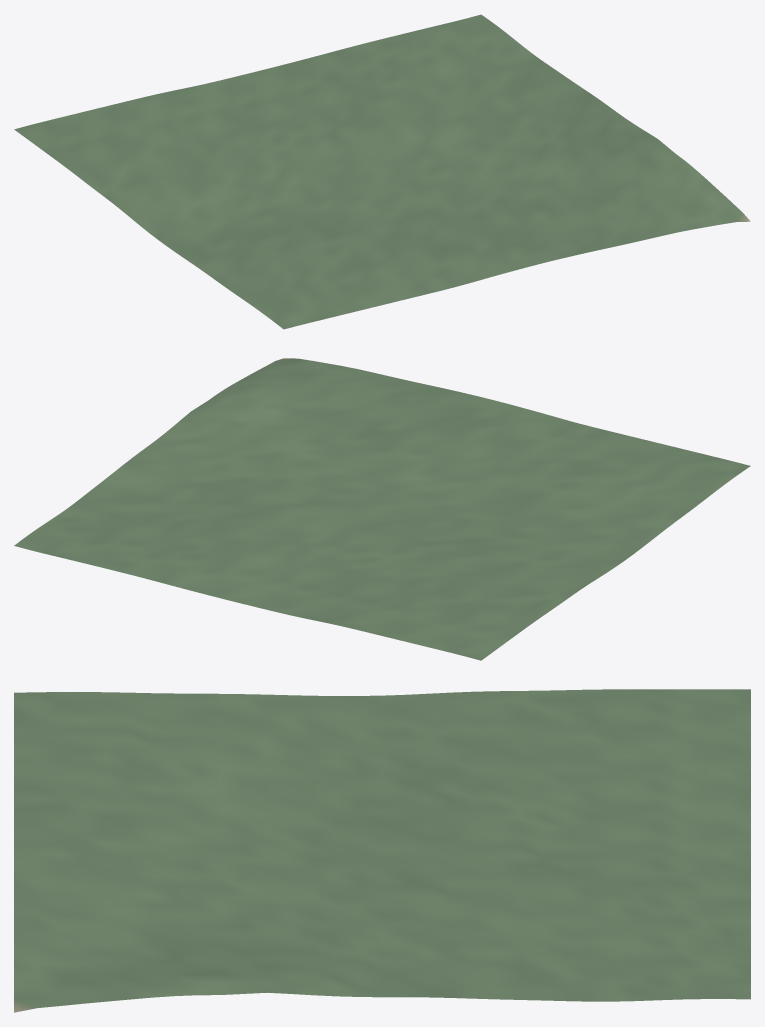
The picture shows the model from 3 angles, top to bottom: view 1: azimuth 30°, elevation 25°; view 2: azimuth 150°, elevation 25°; view 3: azimuth 270°, elevation 25°; orthographic projection. The views are drawn at different scales.
Visible parts, largest first — view 1: Terrain-col; view 2: Terrain-col; view 3: Terrain-col.
Boxes of the visible parts, x1,y1,x2,y2 form: Terrain-col: [14, 14, 750, 329]; Terrain-col: [14, 358, 750, 660]; Terrain-col: [14, 689, 750, 1012].
Size of the model in its own units: 256 by 7.96 by 256.
